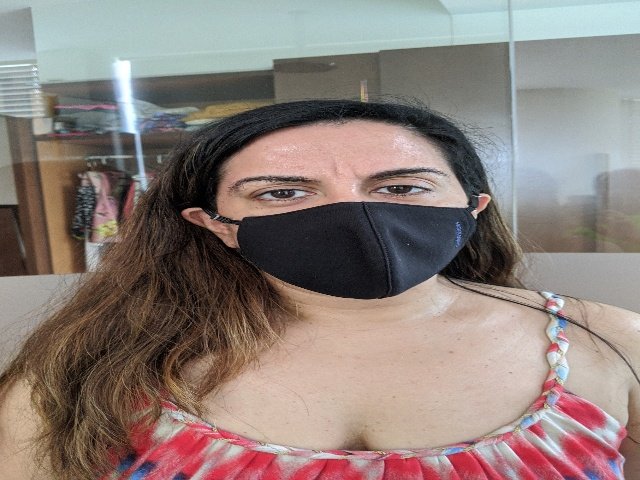mask: (173, 84, 532, 325)
